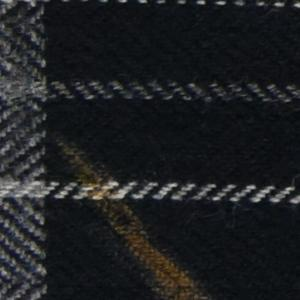Oil Stain: (51, 131, 214, 300)
